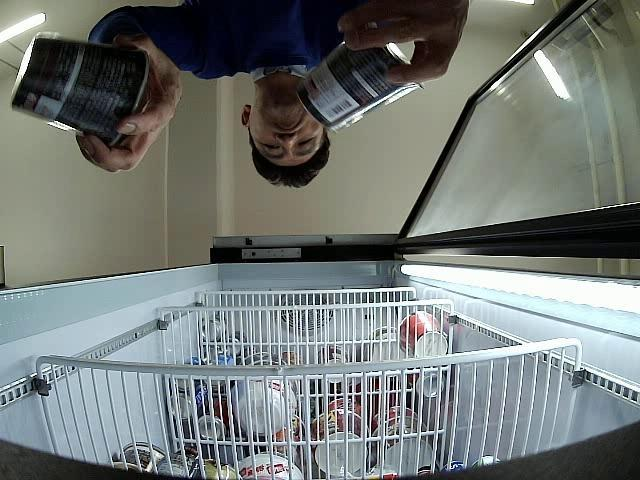08_buldak_S: (10, 34, 148, 148), (298, 42, 424, 130)
